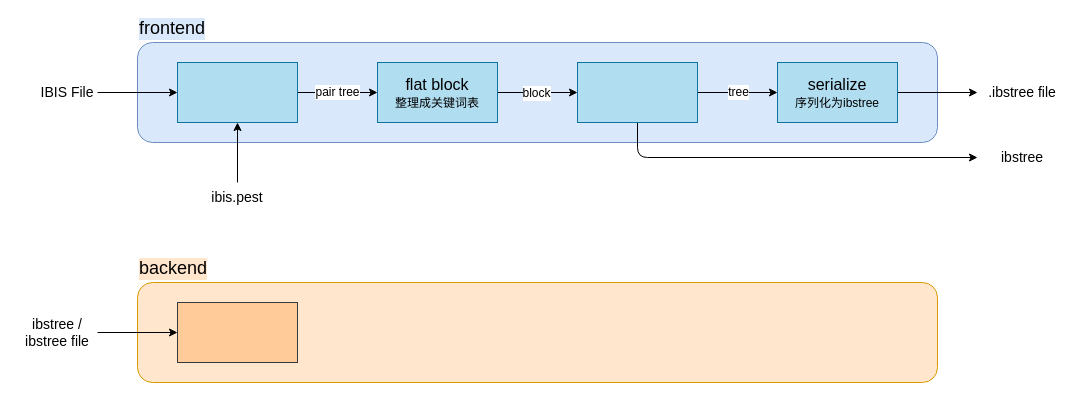
This 1084x400 diagram has some shape labels left out. The shapes that lost their labels are listed below. From the top down, each one's centre as x and y in pixels, then its label:
At point 237,92: "Parser 关键词及信息获取".
At point 637,92: "hierarchical 构建关键词等级树".
